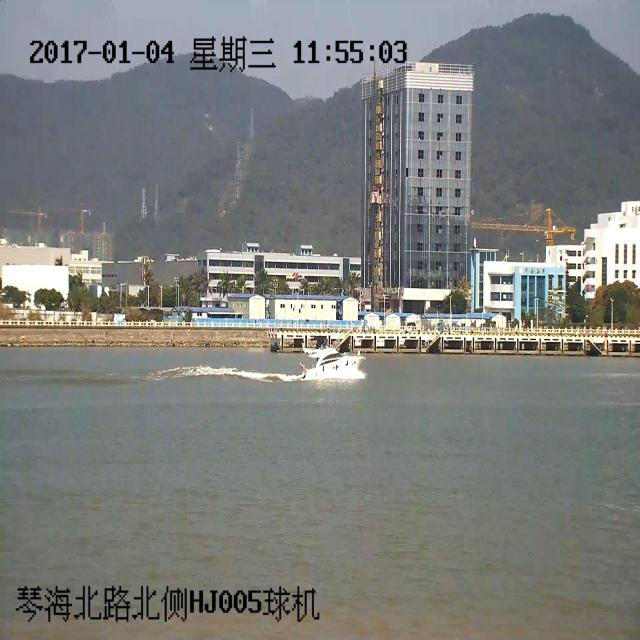houseboat: (305, 329, 365, 401)
